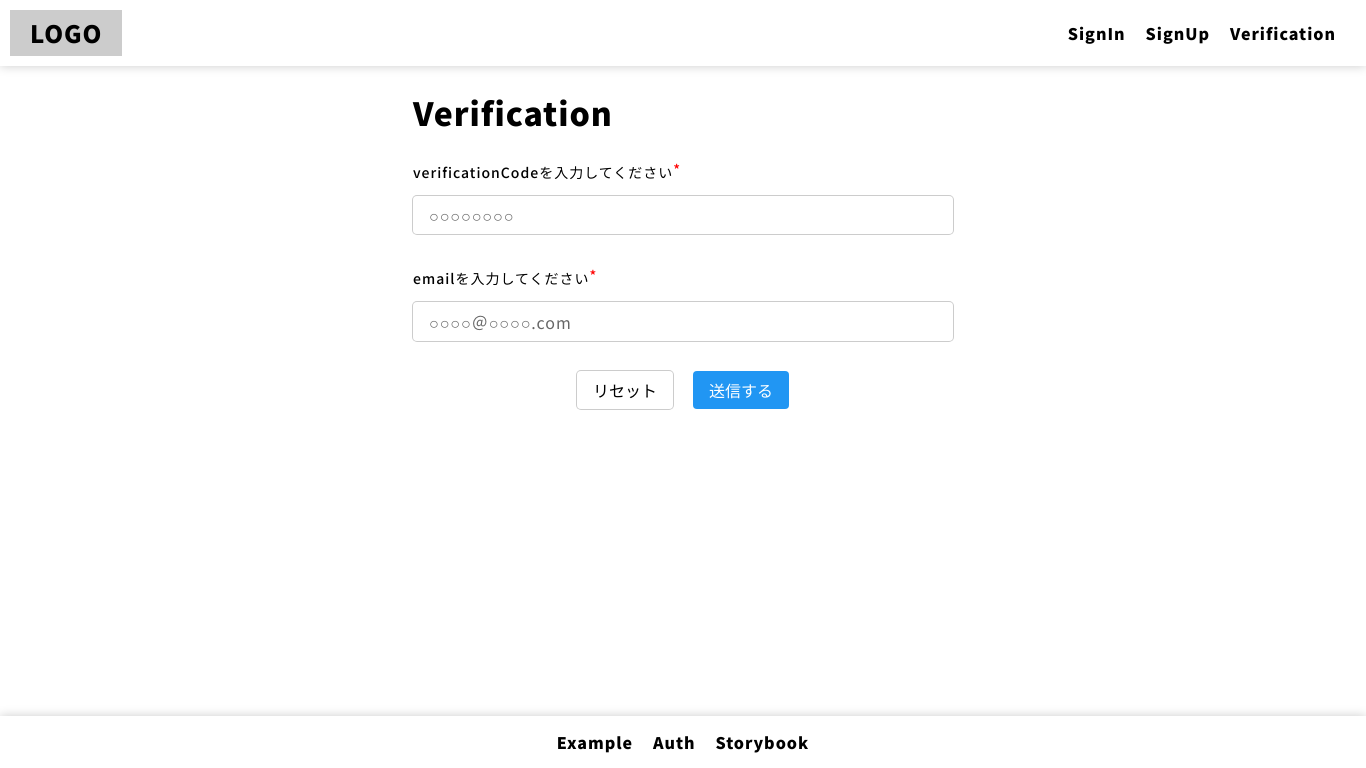
Verification page › renders and confirms the entered code
Expected: the heading "Verification" is shown, [413,89,613,135]
Type "123456" into the password field with placeholder "○○○○○○○○".
click(683, 215); type("123456")  # box [413,196,953,234]
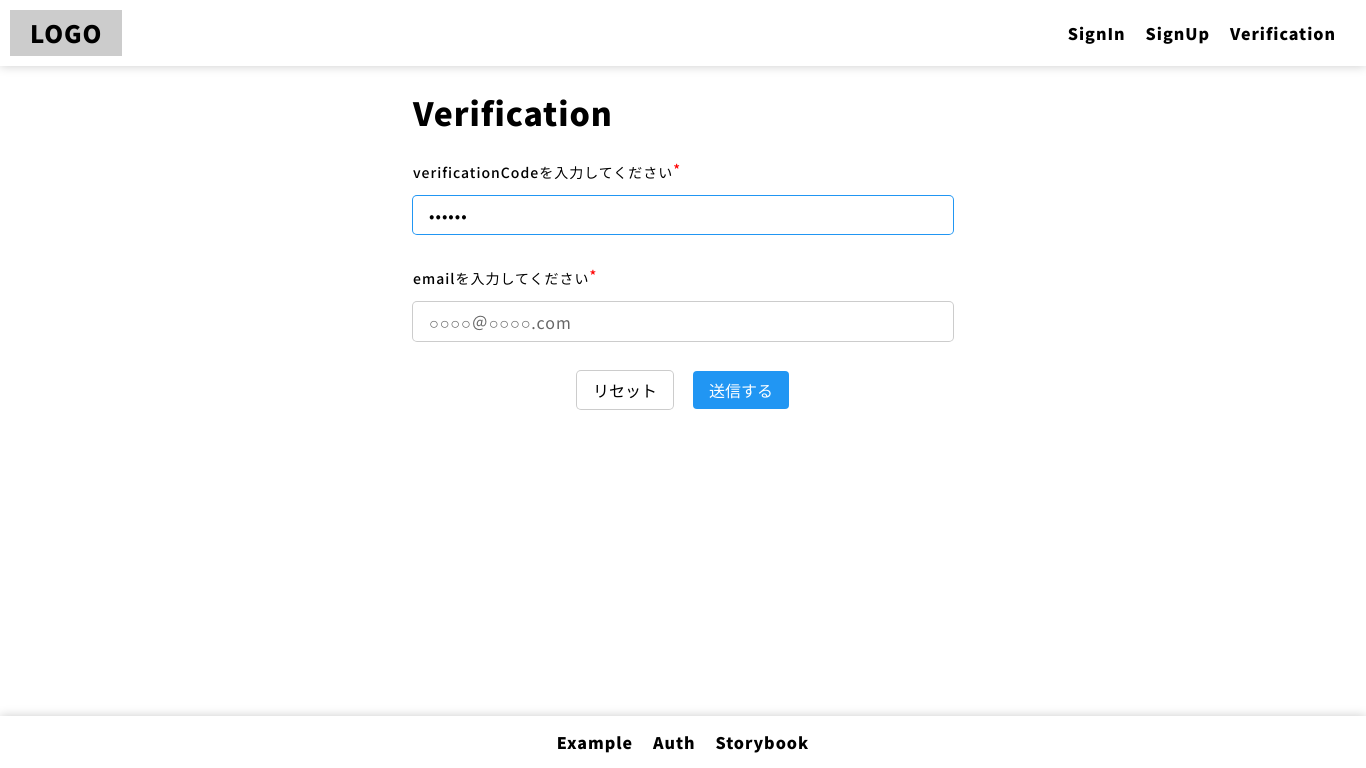
Type "user@example.com" into the field with placeholder "○○○○＠○○○○.com".
click(683, 322); type("user@example.com")  # box [413,302,953,341]
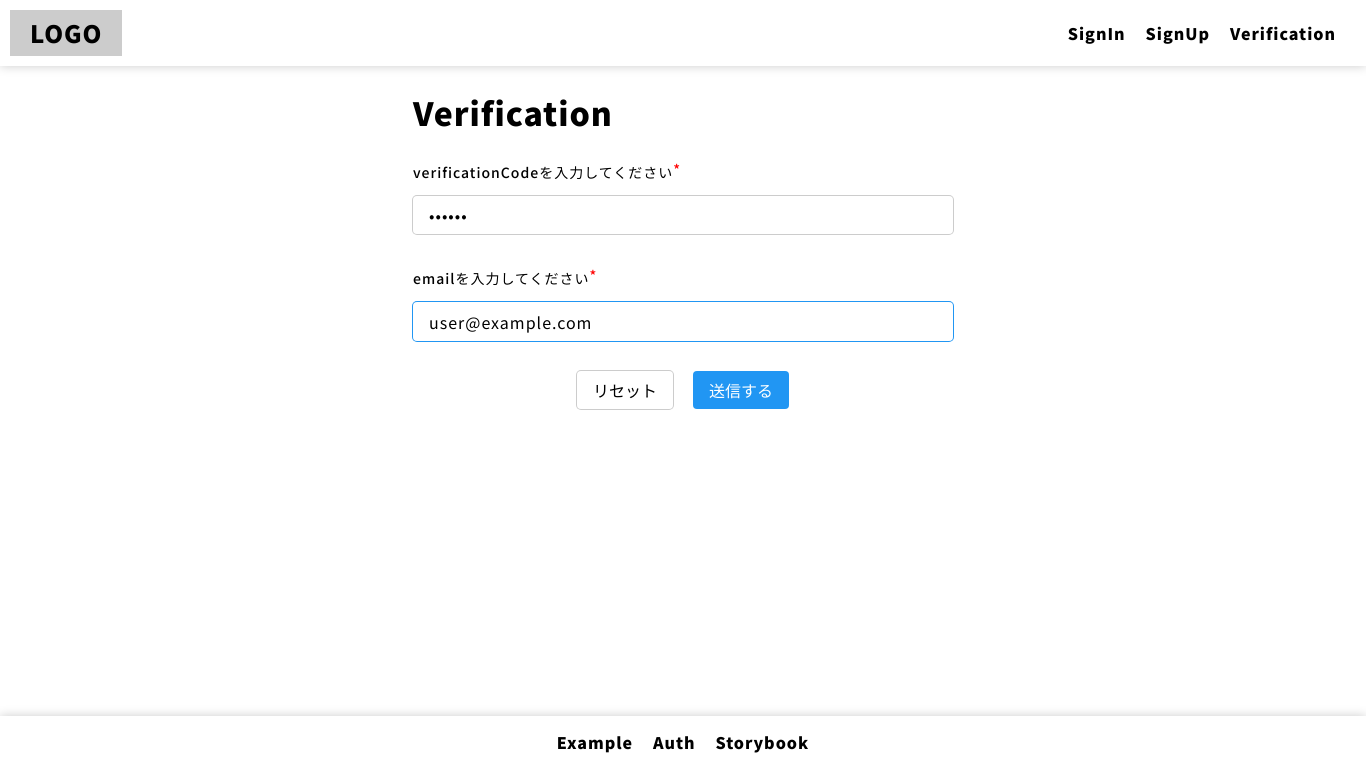
Click the button "送信する".
click(741, 390)  # box [693,371,789,409]
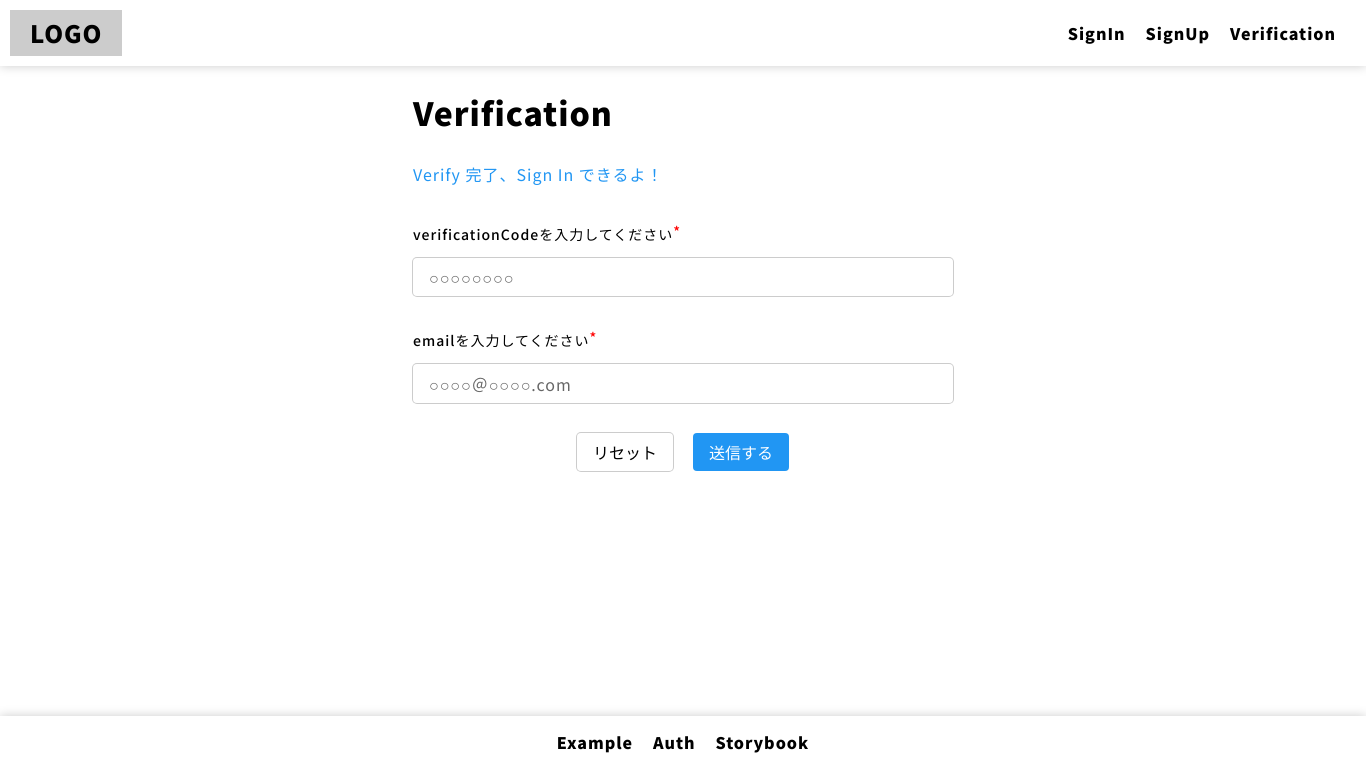
Expected: the text "Verify 完了、Sign In できるよ！" is shown, [413,162,664,186]
